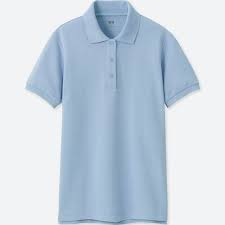C_polo shirt: (28, 3, 191, 224)
